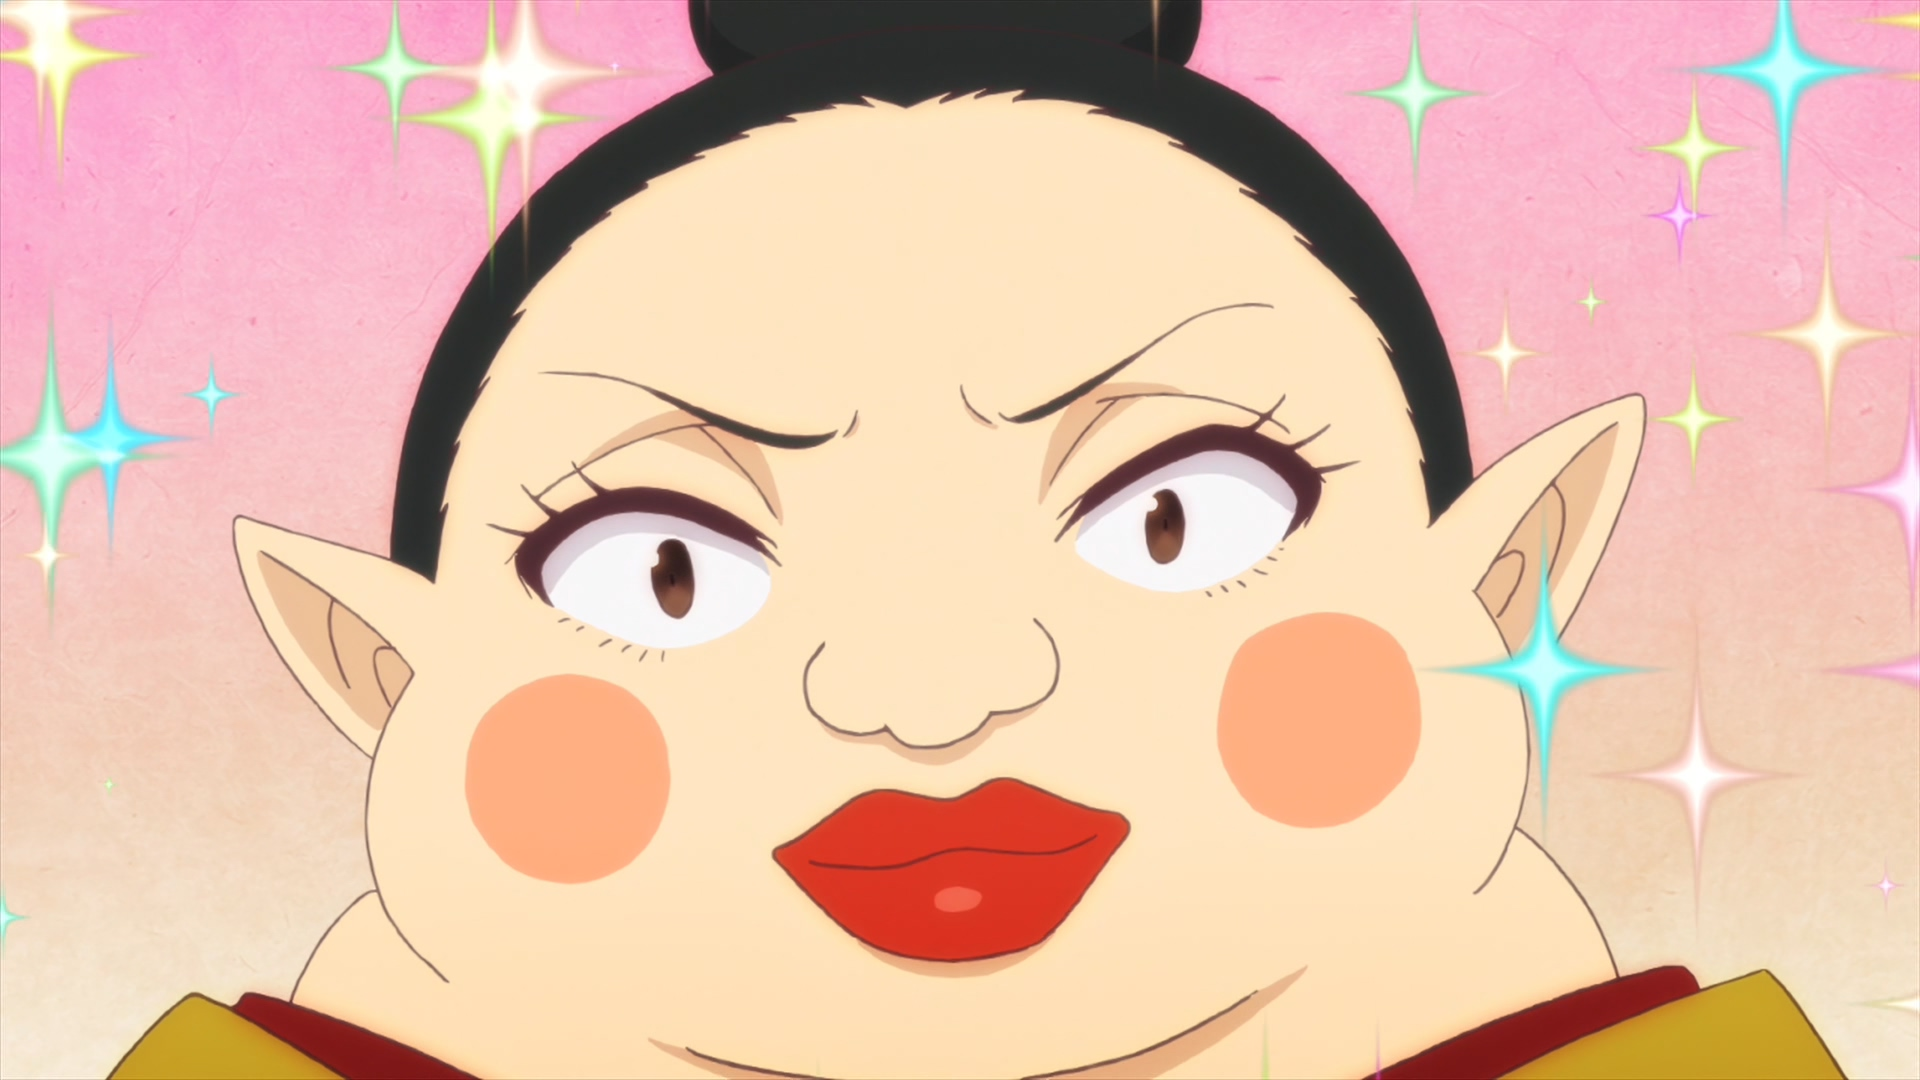其他: (108, 1, 1846, 1080)
